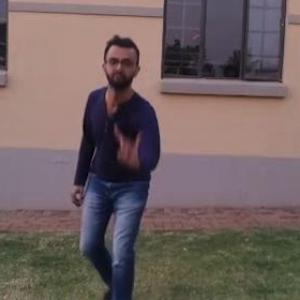takeoff-hand: (104, 122, 150, 174)
